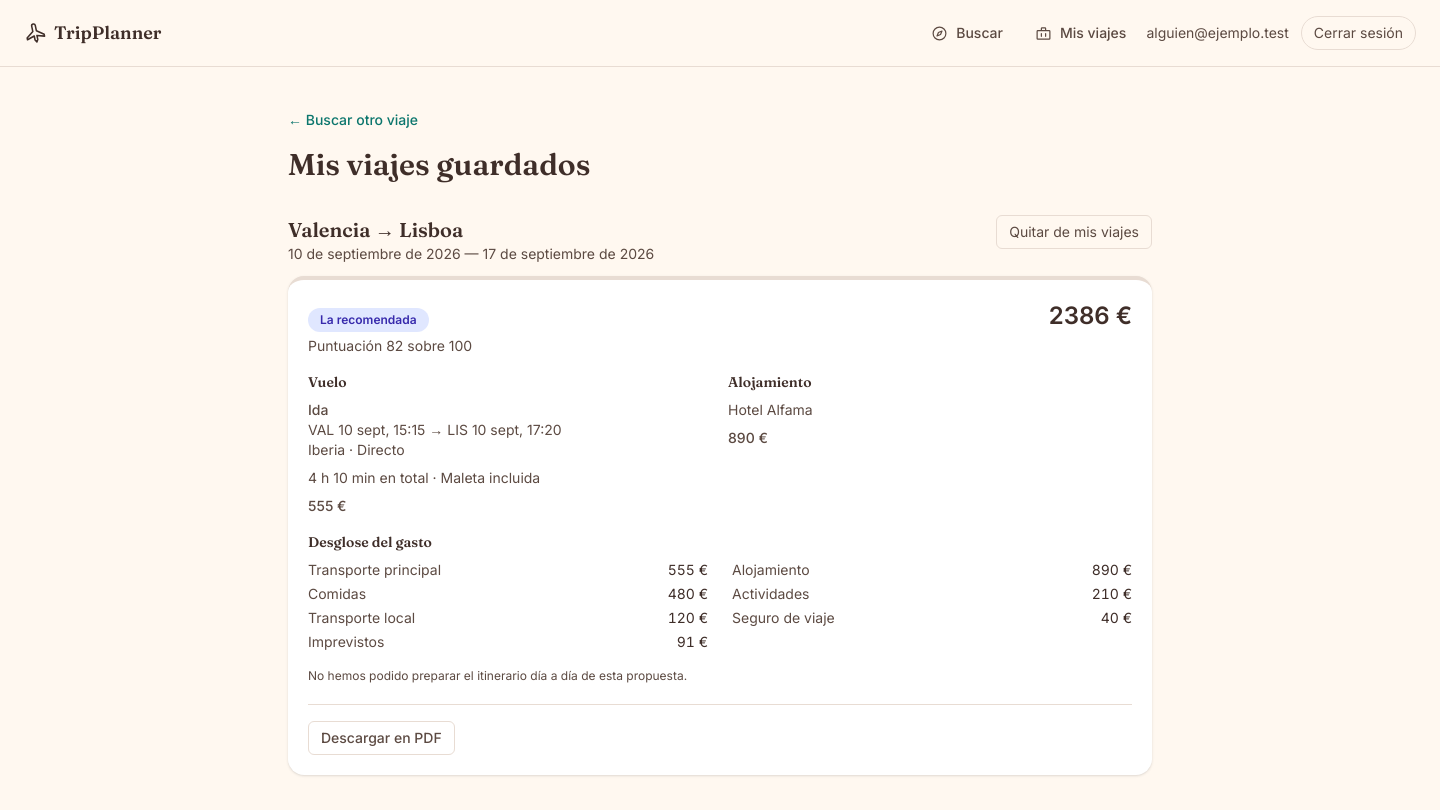
Test: Mis viajes guardados › borrar un viaje › enseña el error si el borrado falla, y no quita el viaje
Expected: the heading "Valencia → Lisboa" is shown, [288,217,463,242]
Click the button "Quitar de mis viajes": {"x": 1074, "y": 232} [996,215,1152,249]
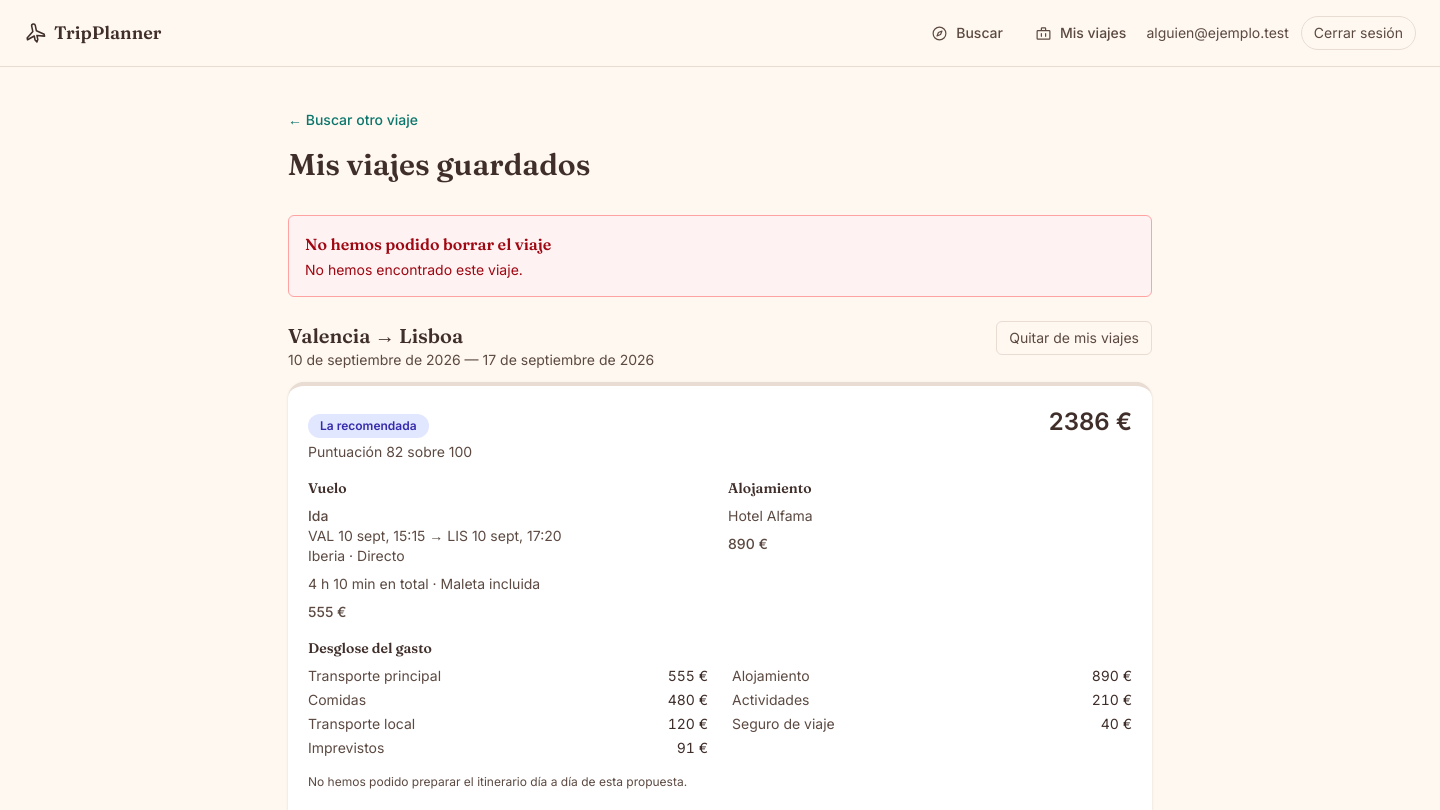
Expected: the heading "Valencia → Lisboa" is shown, [288,323,463,348]
Expected: the text "No hemos encontrado este viaje." is shown, [305,261,523,278]
